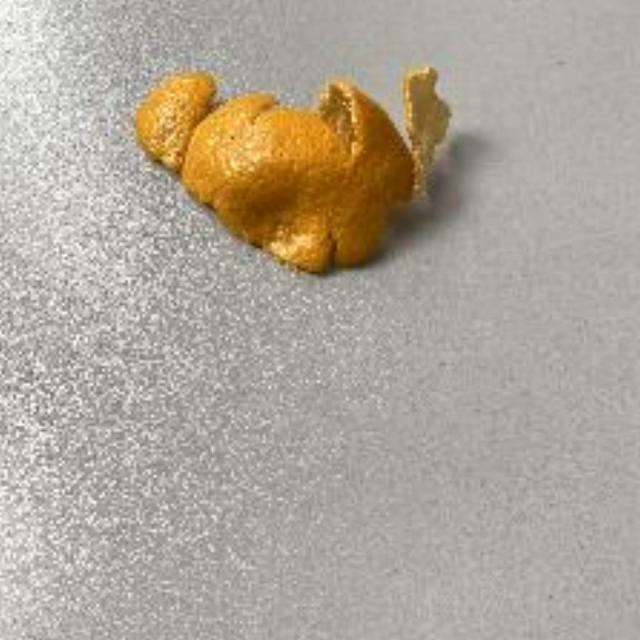orange-peel: (133, 67, 459, 280)
